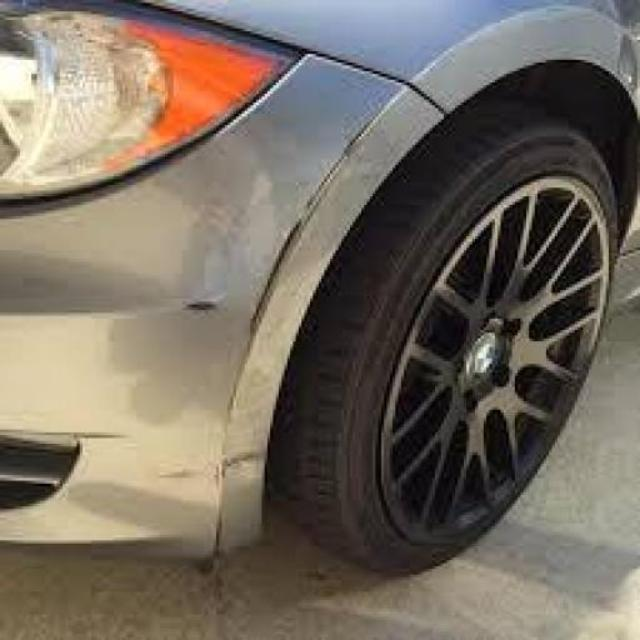crack: (240, 121, 374, 353)
scratch: (179, 289, 227, 323)
